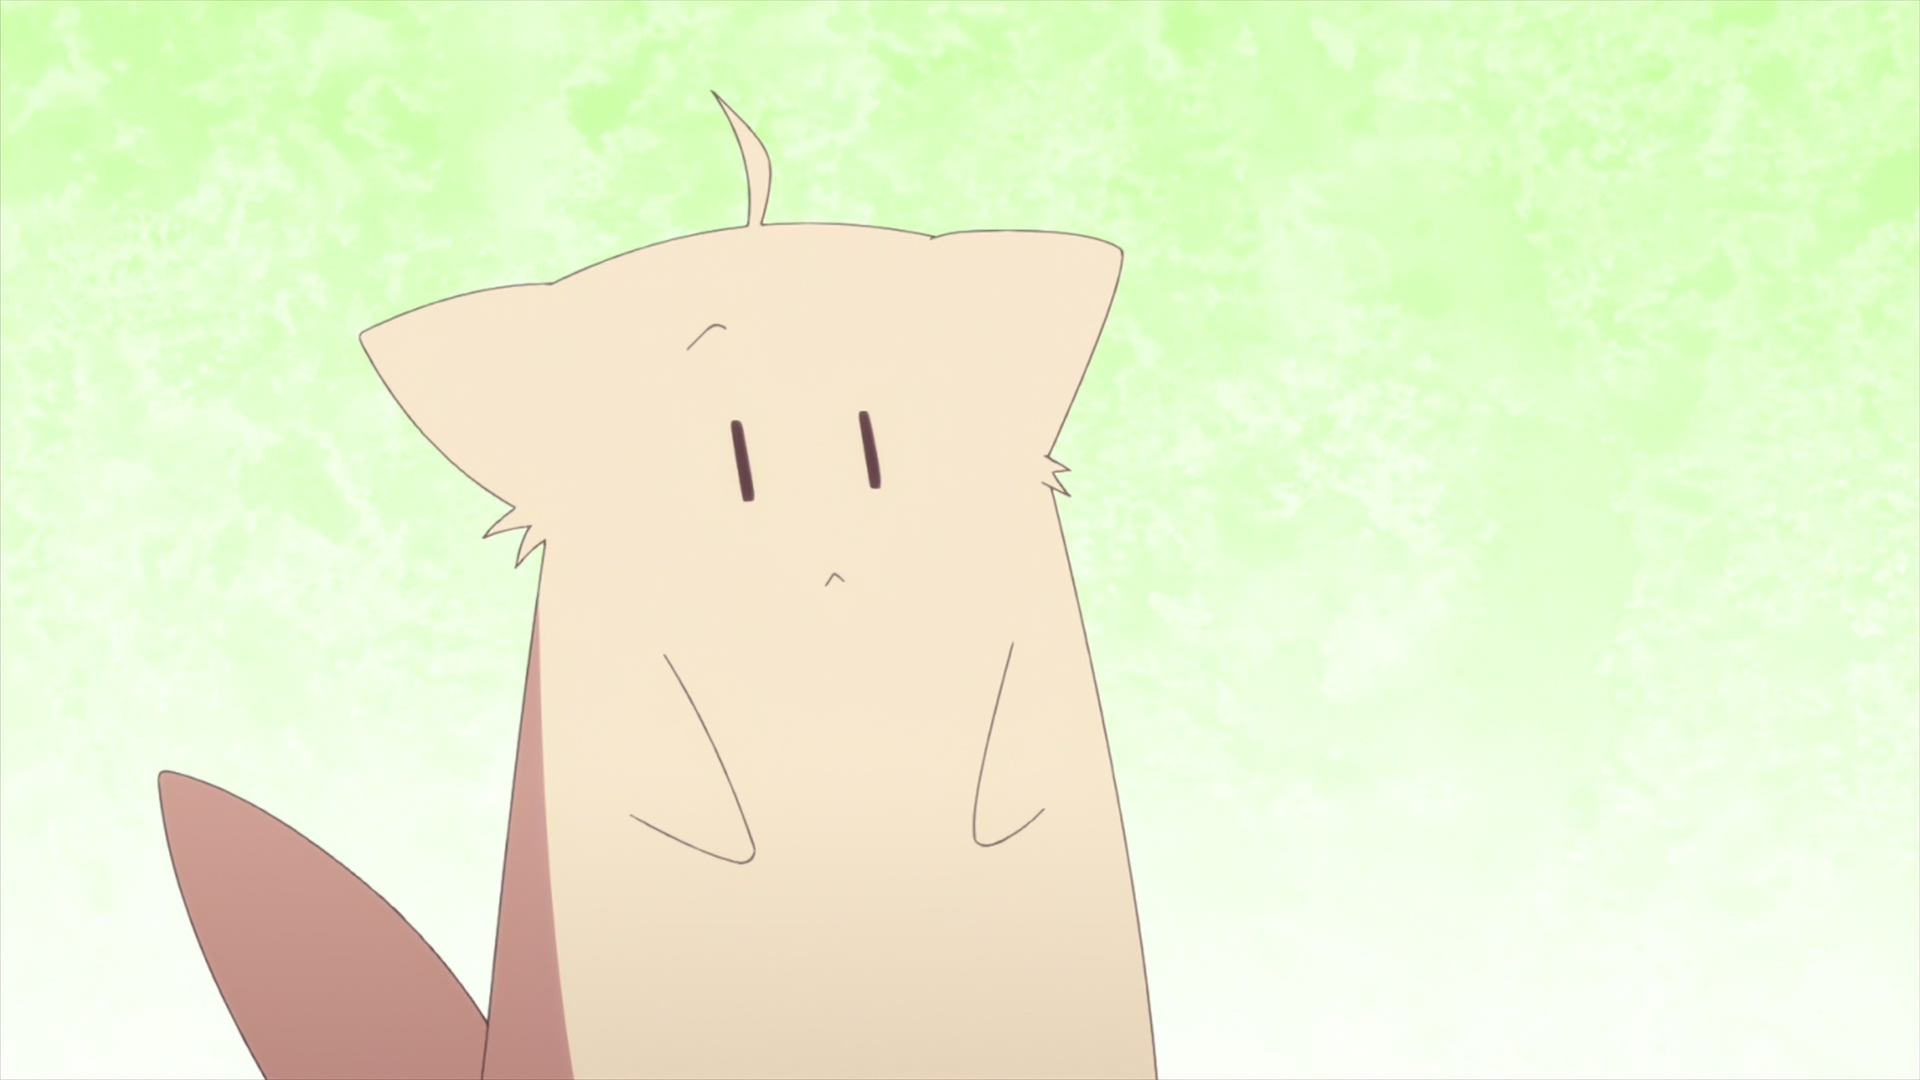柚: (157, 94, 1156, 1080)
